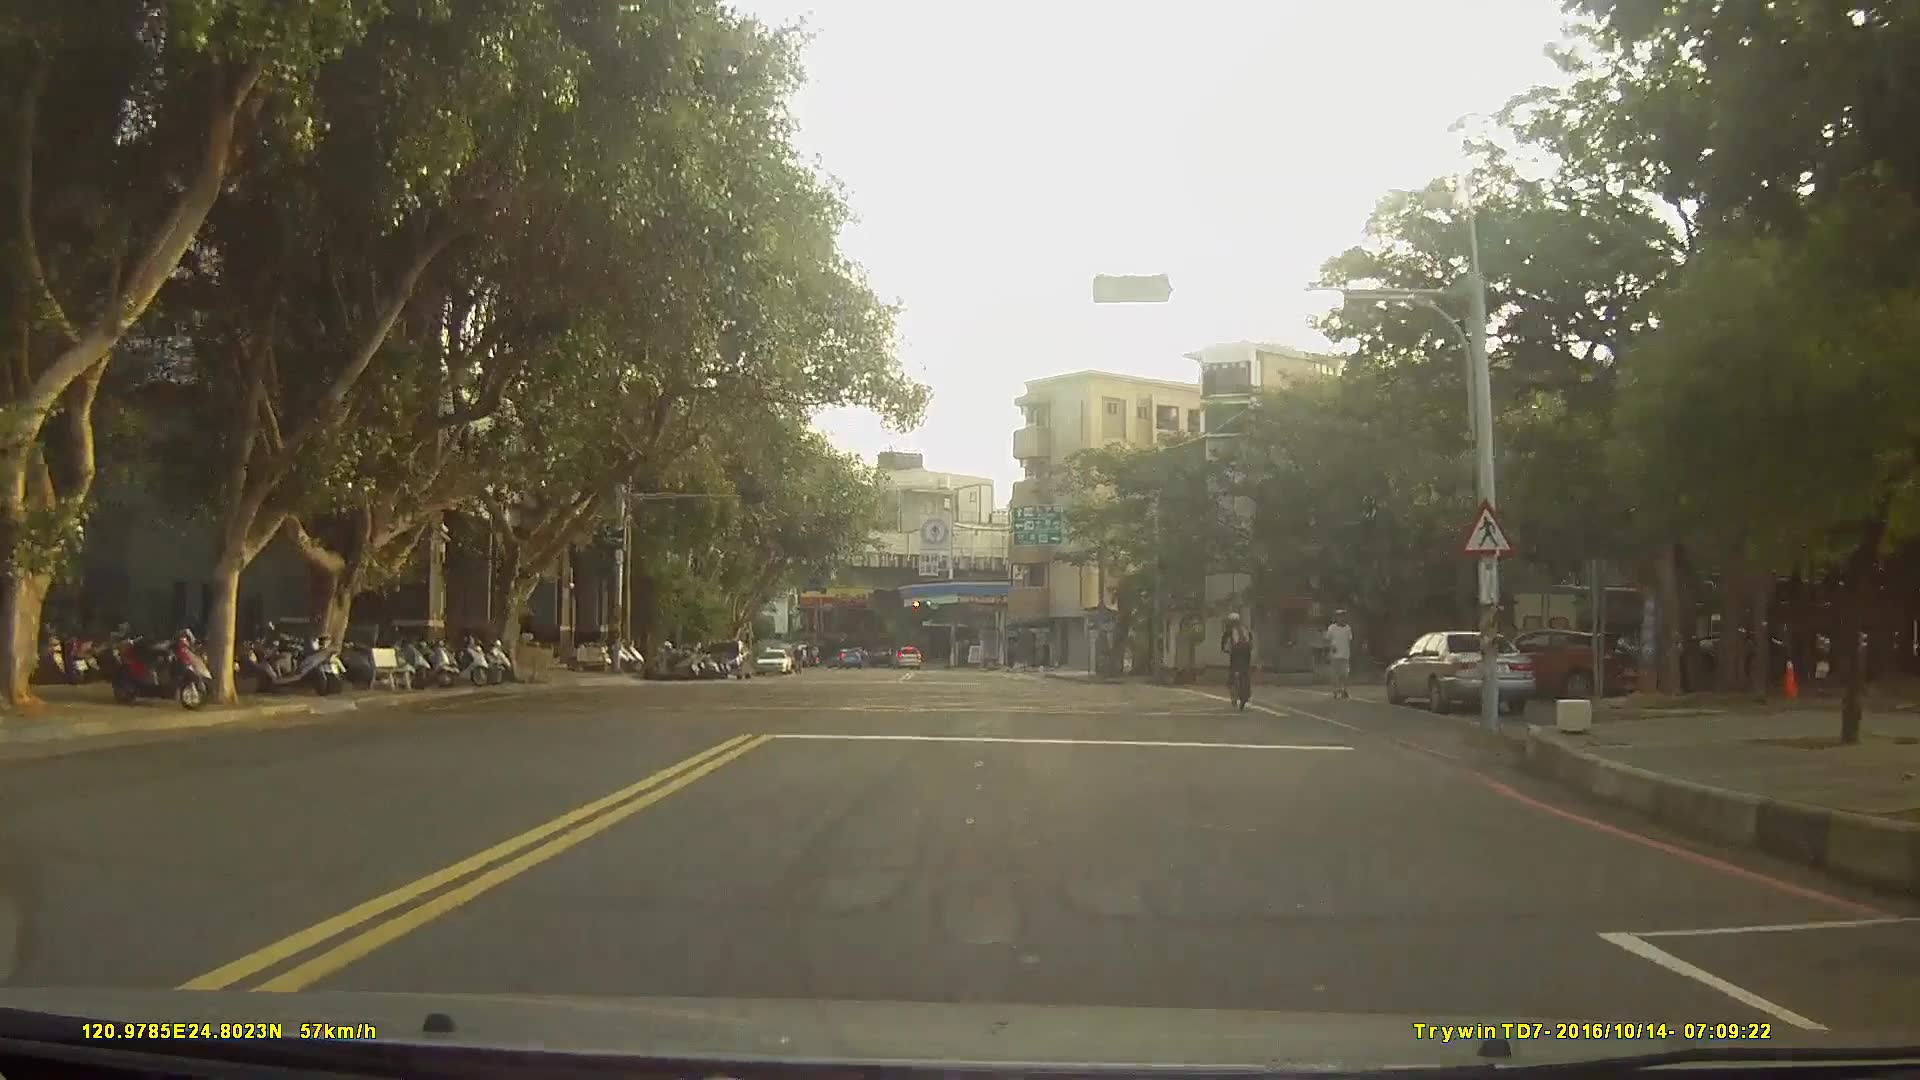pedestrian: (1322, 601, 1359, 707), (519, 610, 539, 647)
rider: (1216, 611, 1259, 709)
vehicle: (1386, 627, 1533, 713), (1471, 627, 1603, 699), (700, 635, 753, 676), (755, 645, 791, 677), (887, 643, 920, 668)
